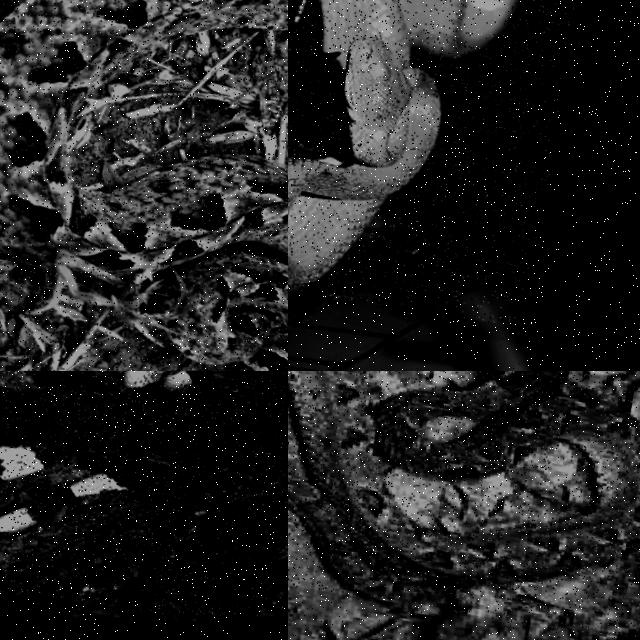Bungarus candidus: (69, 456, 170, 497)
Calloselasma rhodostoma: (0, 0, 287, 370), (288, 371, 639, 603)
Trimeresurus macrops: (288, 0, 518, 288)
snake: (0, 0, 287, 370), (288, 371, 639, 603), (288, 0, 518, 288), (69, 456, 170, 497)
